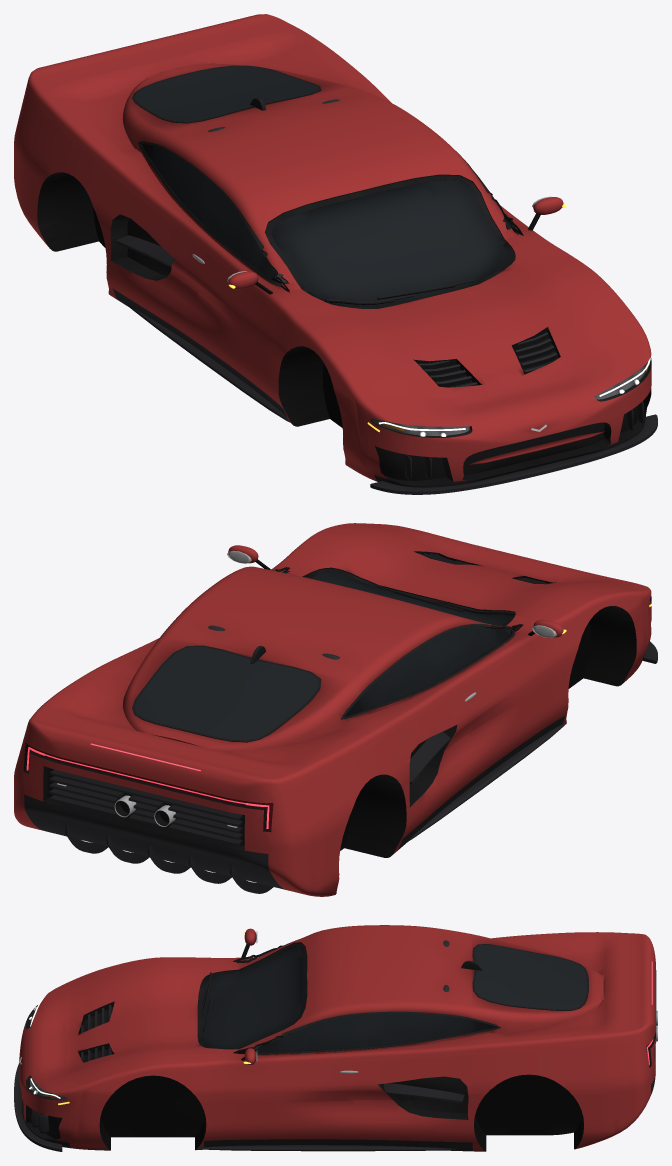
The model's file is volt.m.glb.
The picture shows the model from 3 angles, top to bottom: view 1: azimuth 30°, elevation 25°; view 2: azimuth 150°, elevation 25°; view 3: azimuth 270°, elevation 25°; orthographic projection. The views are drawn at different scales.
Parts seen in each view (by area): view 1: paint_lodm, window_lodm, trim_lodm, carbon_lodm, glass_lodm, grille_lodm, head_lodm; view 2: paint_lodm, carbon_lodm, trim_lodm, glass_lodm, window_lodm, tail_lodm, chrome_lodm, tailglow_lodm; view 3: paint_lodm, trim_lodm, window_lodm, glass_lodm, carbon_lodm, grille_lodm.
Part boxes in pixels (x1,y1,x2,y2): paint_lodm: (14, 14, 651, 481); window_lodm: (141, 144, 518, 307); trim_lodm: (37, 65, 651, 485); carbon_lodm: (112, 235, 657, 494); glass_lodm: (134, 66, 318, 121); grille_lodm: (127, 218, 643, 480); head_lodm: (370, 362, 647, 435); paint_lodm: (14, 523, 651, 896); carbon_lodm: (24, 553, 657, 893); trim_lodm: (23, 551, 651, 857); glass_lodm: (134, 647, 318, 740); window_lodm: (283, 570, 518, 716); tail_lodm: (25, 744, 273, 830); chrome_lodm: (114, 550, 556, 826); tailglow_lodm: (26, 743, 269, 828); paint_lodm: (19, 925, 656, 1151); trim_lodm: (21, 940, 656, 1151); window_lodm: (201, 946, 496, 1052); glass_lodm: (474, 945, 586, 1009); carbon_lodm: (14, 1005, 655, 1151); grille_lodm: (41, 1008, 468, 1139).
Size of what is drawn, in the model's own units: 2.19 by 1.07 by 4.55.
